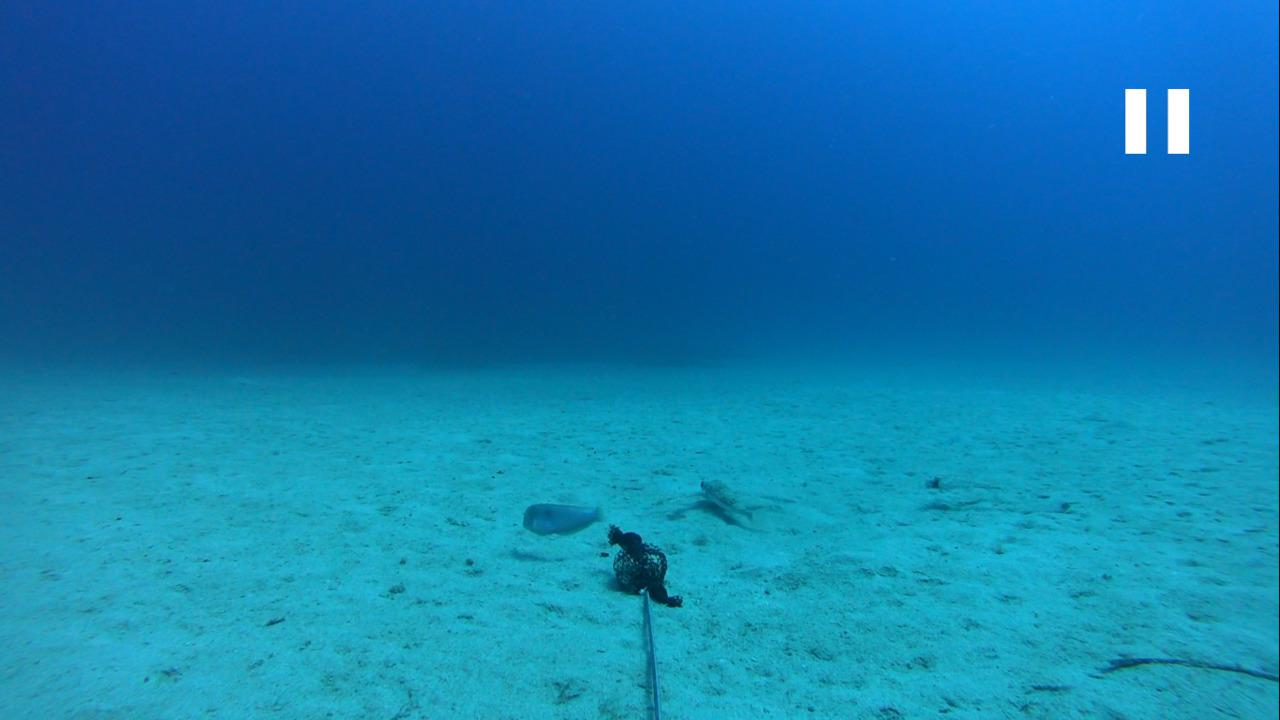dactylopterus: (647, 472, 801, 536), (911, 470, 1003, 504)
raor: (514, 494, 603, 534)
